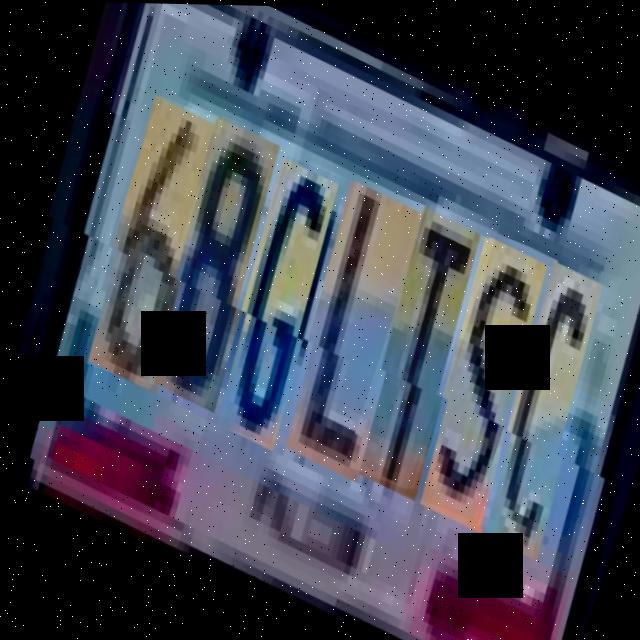6: (57, 93, 249, 391)
8: (120, 113, 307, 409)
C: (453, 251, 633, 550)
G: (184, 153, 365, 446)
L: (252, 175, 450, 475)
S: (387, 228, 574, 524)
T: (327, 201, 507, 492)
